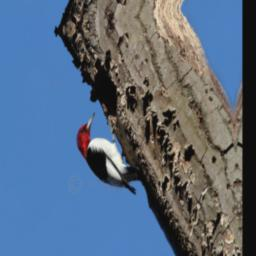Woodpecker: (67, 97, 151, 212)
